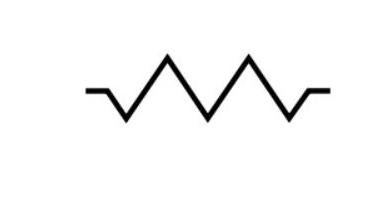resistor: (92, 41, 323, 132)
